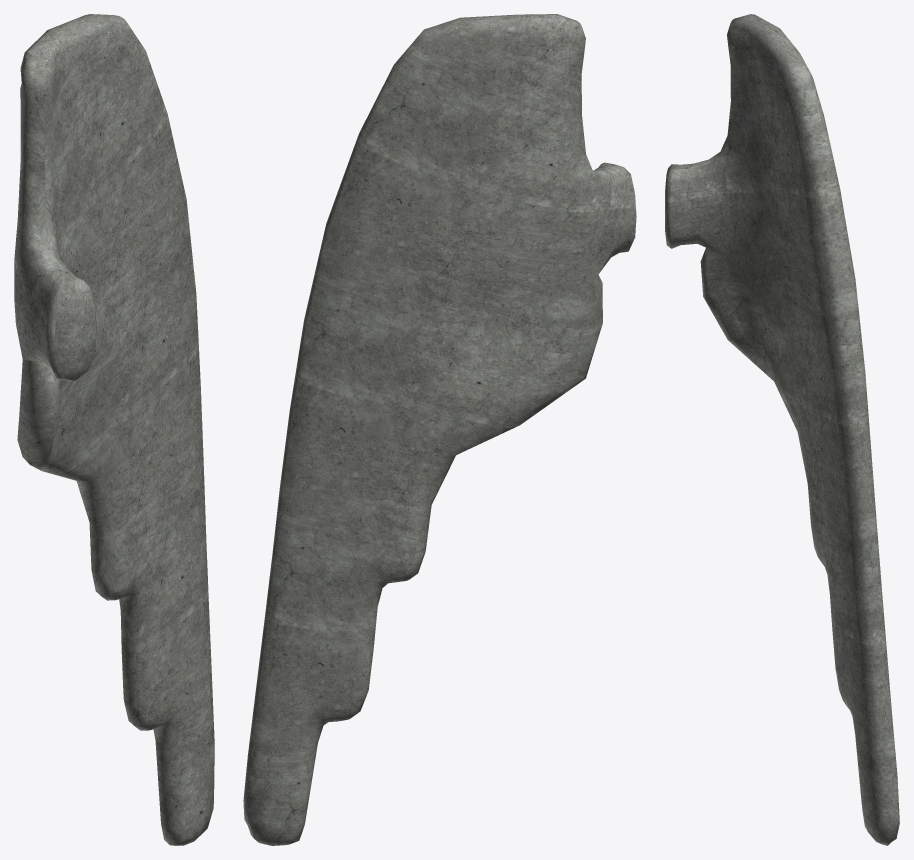
File: SM_WeepingAngel_Point_Arm.fbx
3 views of the same model, side by side, from view 1: azimuth 30°, elevation 25°; view 2: azimuth 150°, elevation 25°; view 3: azimuth 270°, elevation 25° (orthographic). The views are drawn at different scales.
Visible parts, largest first — view 1: SM_WeepingAngel_Point_Arm; view 2: SM_WeepingAngel_Point_Arm; view 3: SM_WeepingAngel_Point_Arm.
Boxes of the visible parts, x1=… form: SM_WeepingAngel_Point_Arm: x1=14, y1=14, x2=214, y2=845; SM_WeepingAngel_Point_Arm: x1=243, y1=14, x2=636, y2=845; SM_WeepingAngel_Point_Arm: x1=665, y1=14, x2=899, y2=845.
Bounding box in the file's own units: 0.4328 × 1.27 × 0.3658.
Materials: 1 (1 with a texture image).
